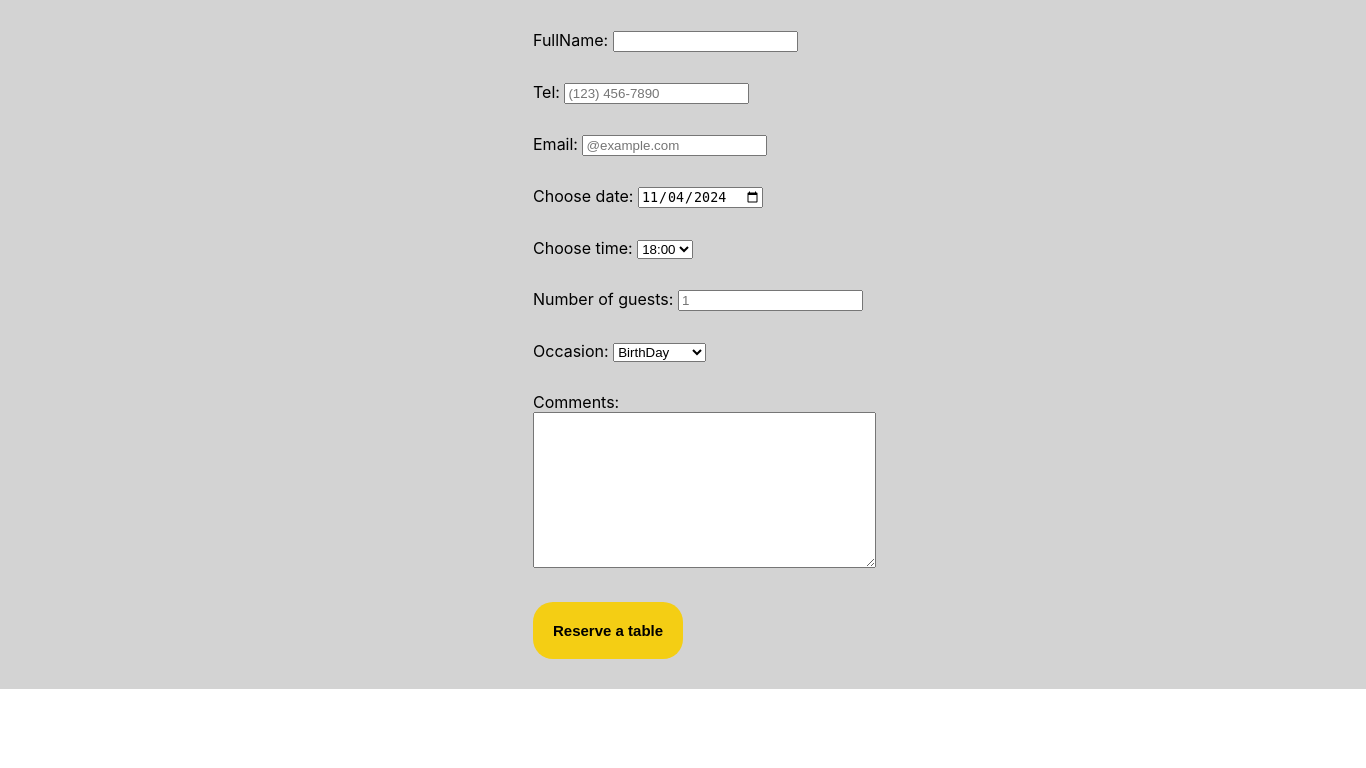
show Date cannot be earlier than today on the screen
Step 1. Type "2024-10-10" into the date field with alt text "reservationdate" → (701,197), box [638,187,763,208]
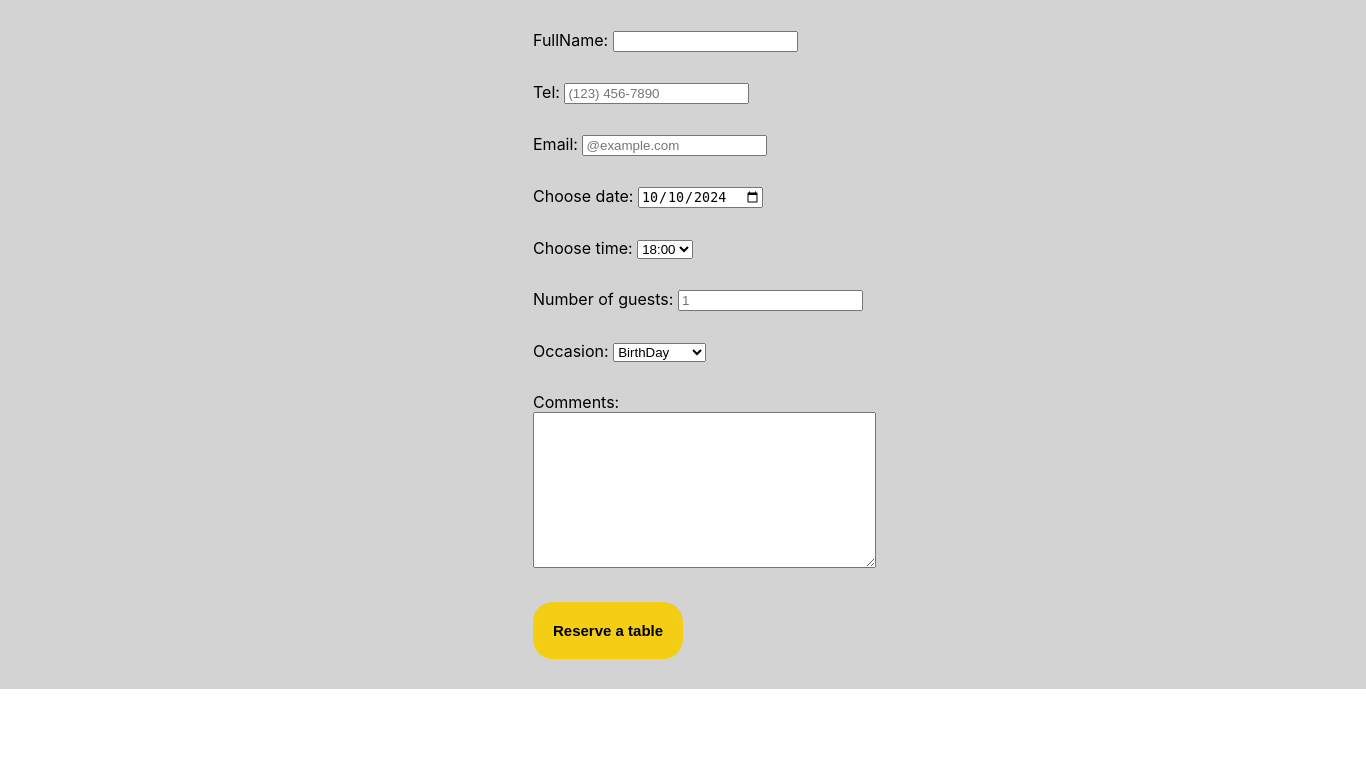
Step 2. Click the button "Reserve a table" → (608,631), box [533,602,683,659]
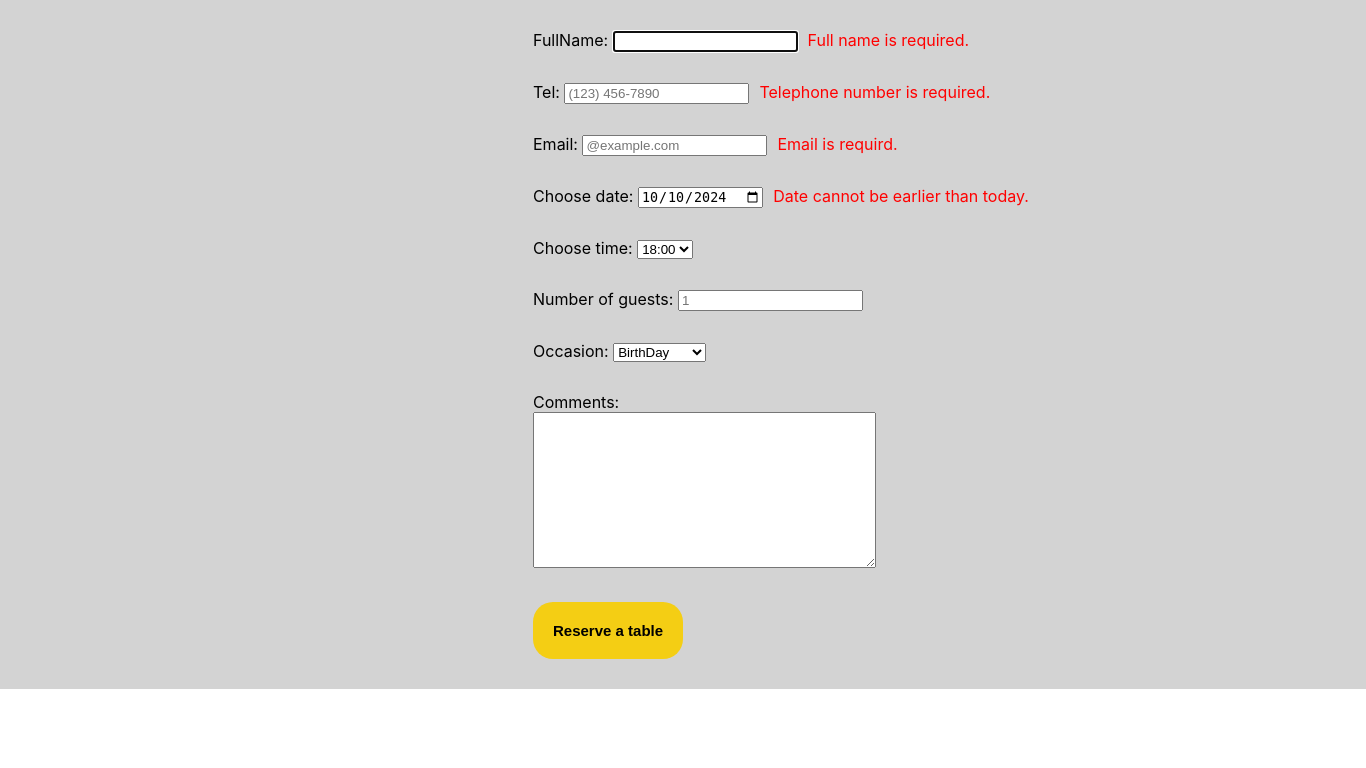
Result: the text "Date cannot be earlier than today." is shown at [773,186,1029,208]
